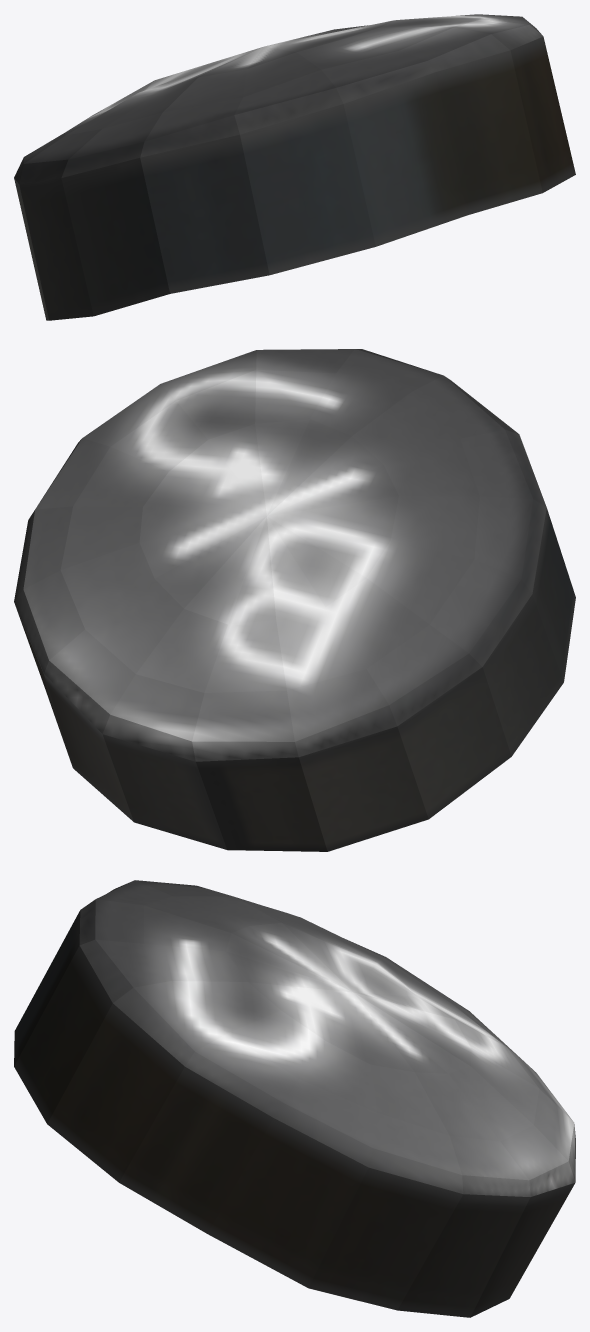
The model's file is pfd_mr_controller_right_bbutton.obj.
3 renders of one model, top to bottom at view 1: azimuth 30°, elevation 25°; view 2: azimuth 150°, elevation 25°; view 3: azimuth 270°, elevation 25°, orthographic. The views are drawn at different scales.
Visible parts, largest first — view 1: pfd_mr_controller_right_bbutton; view 2: pfd_mr_controller_right_bbutton; view 3: pfd_mr_controller_right_bbutton.
Part boxes in pixels (x1,y1,x2,y2): pfd_mr_controller_right_bbutton: (14,14,575,320); pfd_mr_controller_right_bbutton: (14,349,575,851); pfd_mr_controller_right_bbutton: (14,880,575,1317).
Size of the model in its own units: 0.0104 by 0.00727 by 0.0105.
Materials: 1 (1 with a texture image).
